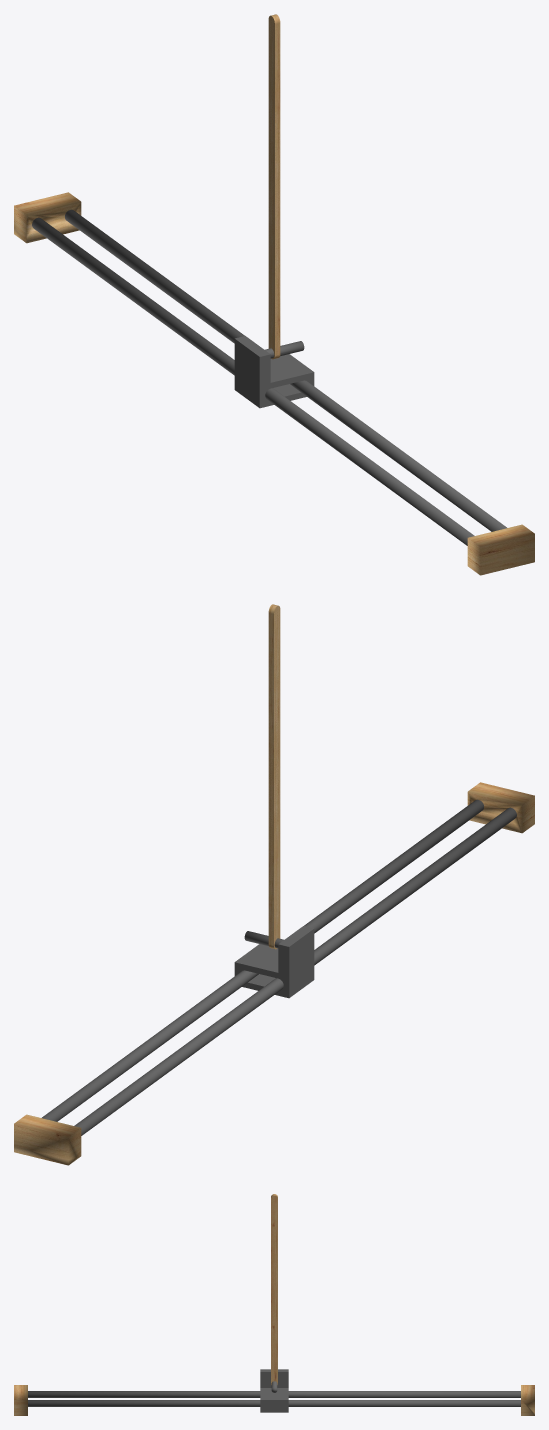
The model's file is pendulum_v2.glb.
The picture shows the model from 3 angles, top to bottom: view 1: azimuth 30°, elevation 25°; view 2: azimuth 150°, elevation 25°; view 3: azimuth 270°, elevation 25°; orthographic projection. The views are drawn at different scales.
Visible parts, largest first — view 1: track, rod, cart; view 2: track, rod, cart; view 3: track, rod, cart.
Boxes of the visible parts, x1,y1,x2,y2 form: track: (14, 192, 534, 575); rod: (268, 14, 280, 359); cart: (234, 336, 314, 408); track: (14, 782, 534, 1165); rod: (268, 604, 280, 949); cart: (234, 926, 314, 998); track: (14, 1385, 534, 1415); rod: (271, 1194, 277, 1384); cart: (260, 1369, 288, 1412).
Size of the model in its own units: 0.05 by 0.335 by 0.74.
3 materials, 2 textured.
